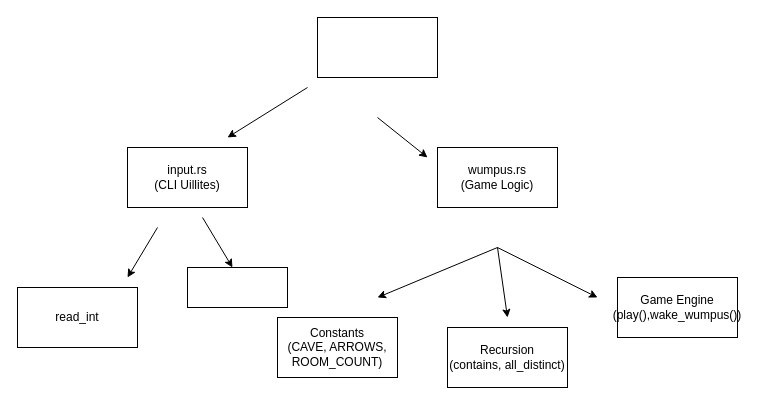
Some shapes in this 759 by 405 pixel diagram are drawn without their labels. Each missing label, with the centre of its shape:
"Main.rs (Program Entry point)" goes at point 377,47.
"read_line_trimmed" goes at point 237,287.
